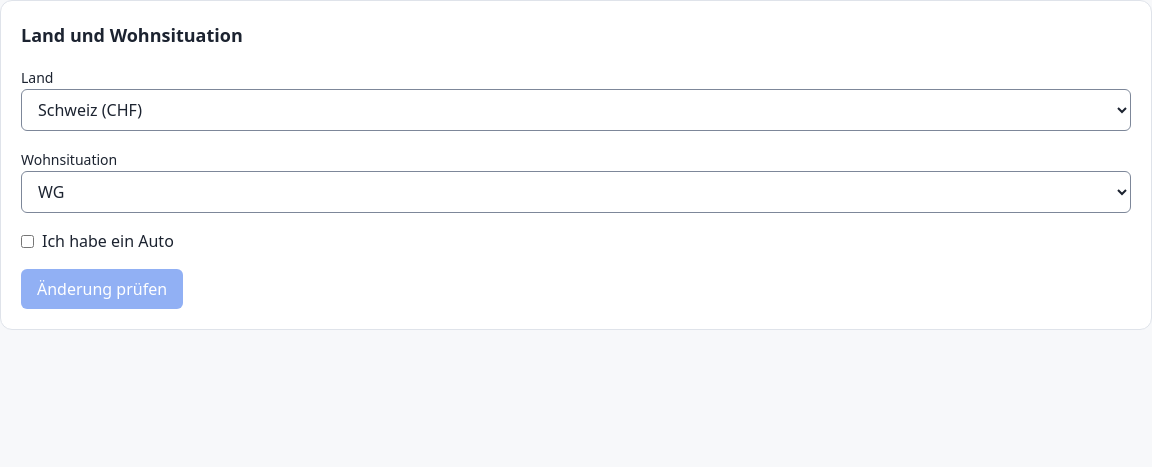
Test case: Land und Wohnsituation › «Abbrechen» verwirft die Prüfung ohne Änderung
Click the checkbox labelled "Ich habe ein Auto" at (28, 241), box [21,234,34,248]
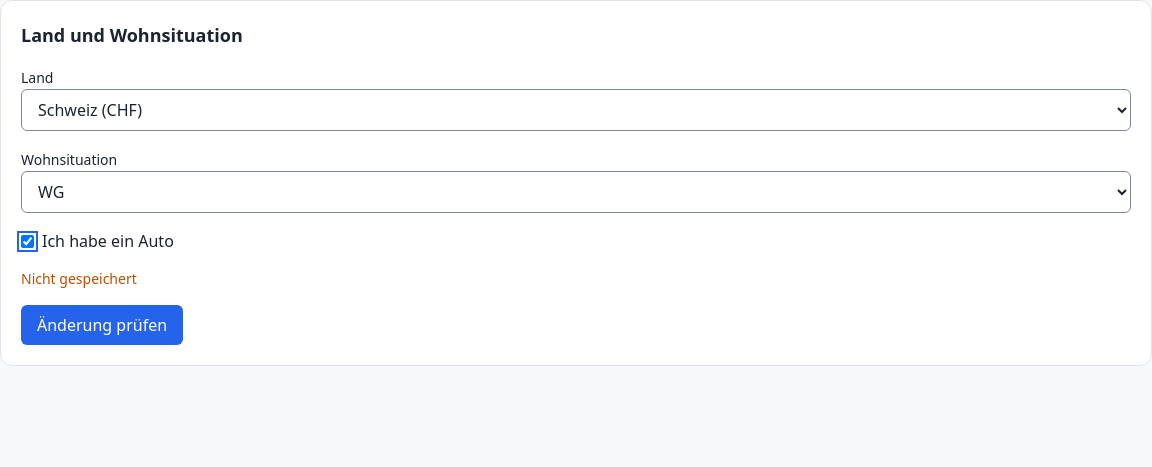
Click the button "Änderung prüfen" at (102, 325), box [21,305,183,345]
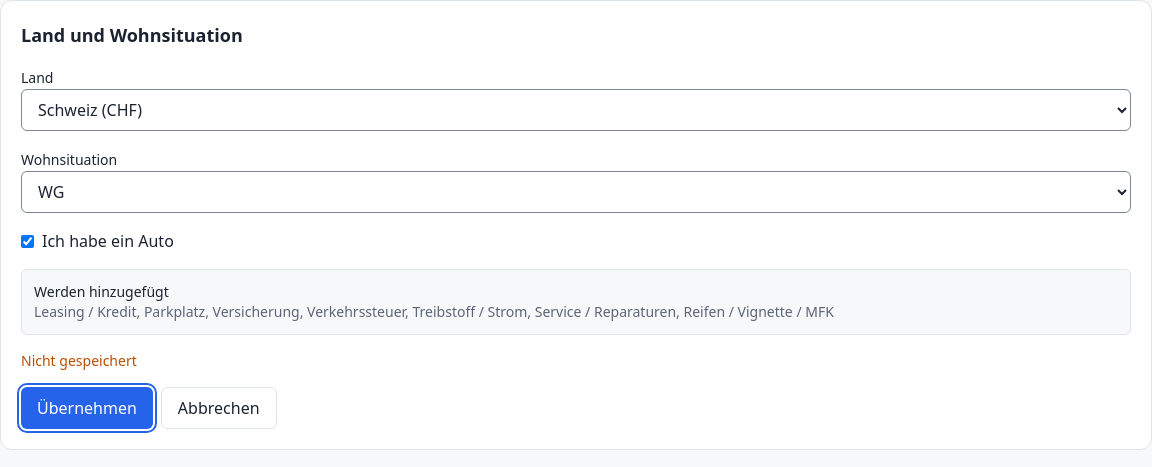
Click the button "Abbrechen" at (219, 408), box [161,387,276,429]
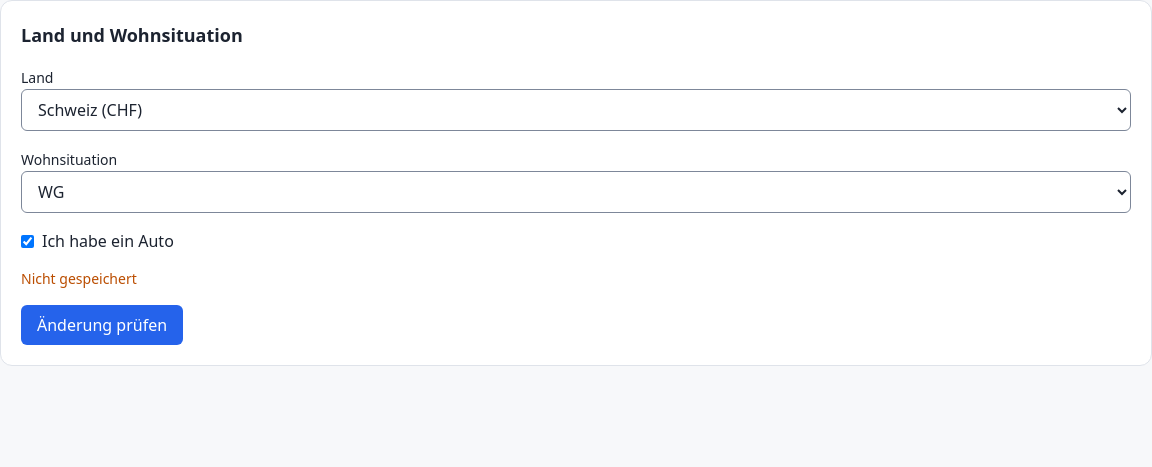
Expected: the button "Änderung prüfen" is shown, [21,305,183,345]
